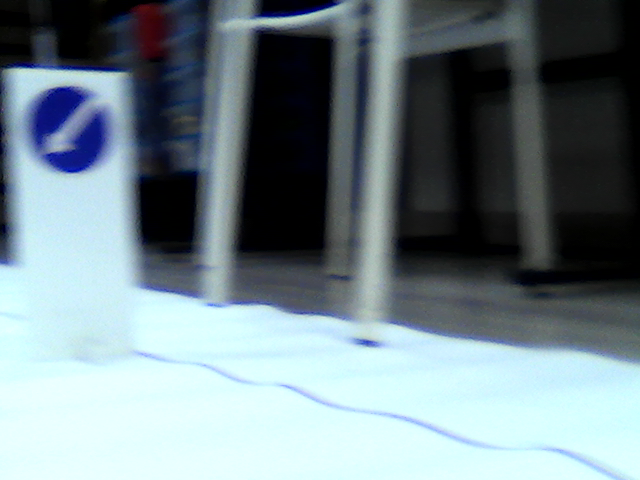prep: (29, 85, 110, 172)
